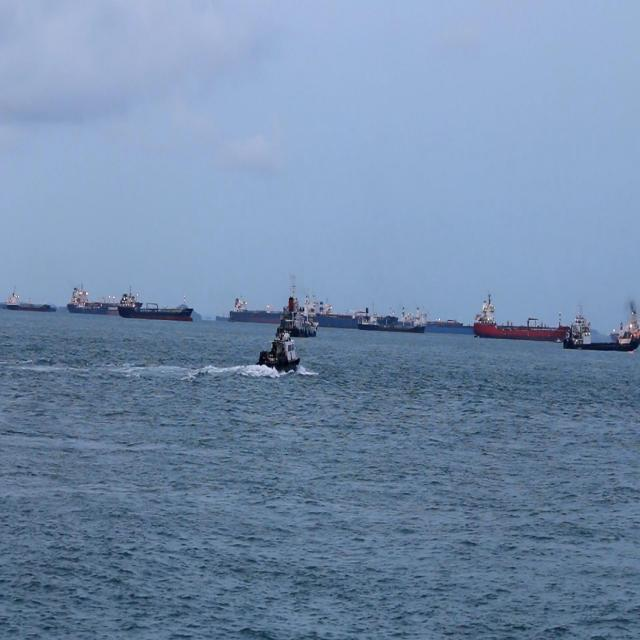CIV_Ship: (236, 323, 324, 383)
